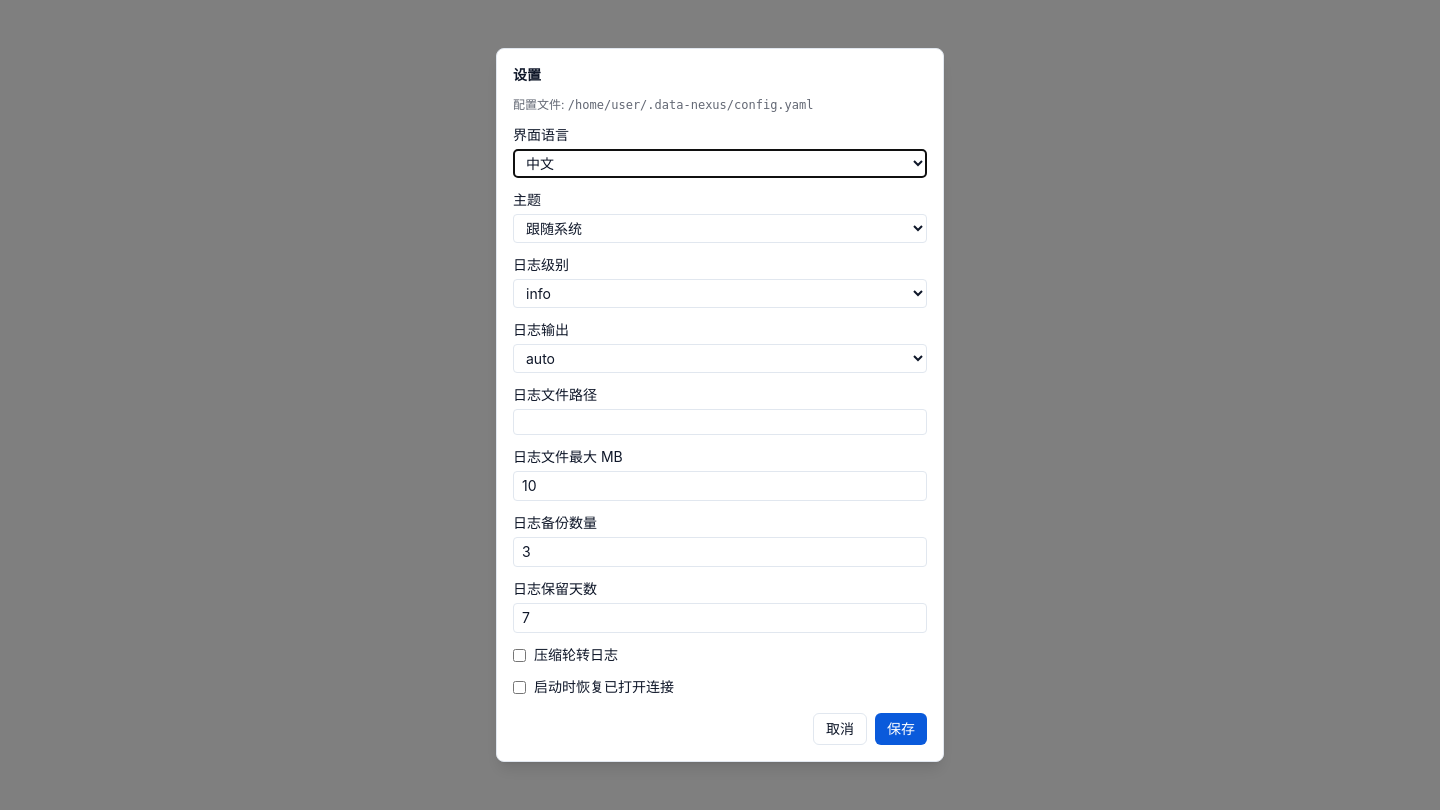
Test: SettingsDialog › shows inline validation for invalid max_size_mb
The width and height of the screenshot is (1440, 810).
Replace the text in the number field showing "10" with "0" at [720, 486], box [513,471,927,501]
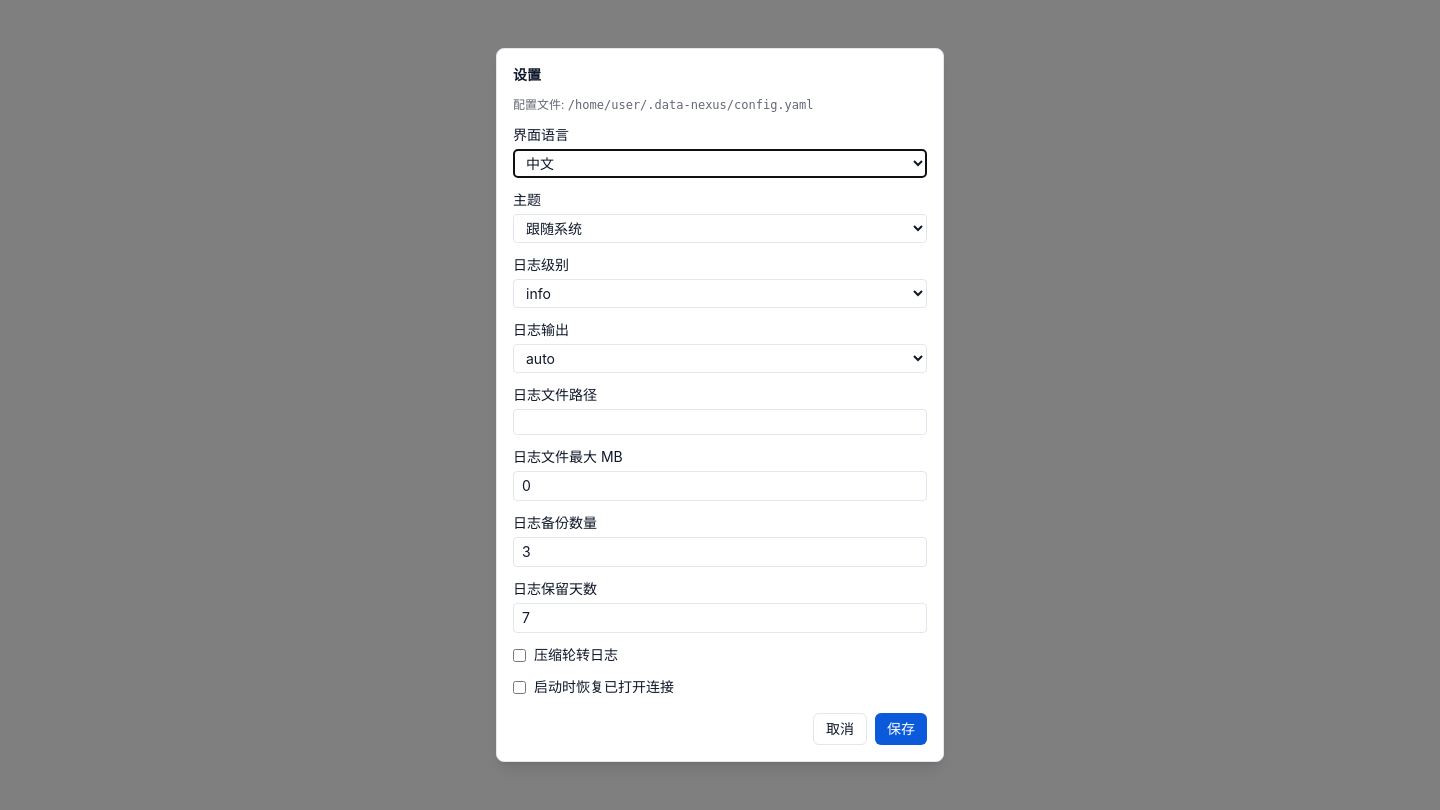
Click the button "保存".
click(901, 729)  # box [875,713,927,745]
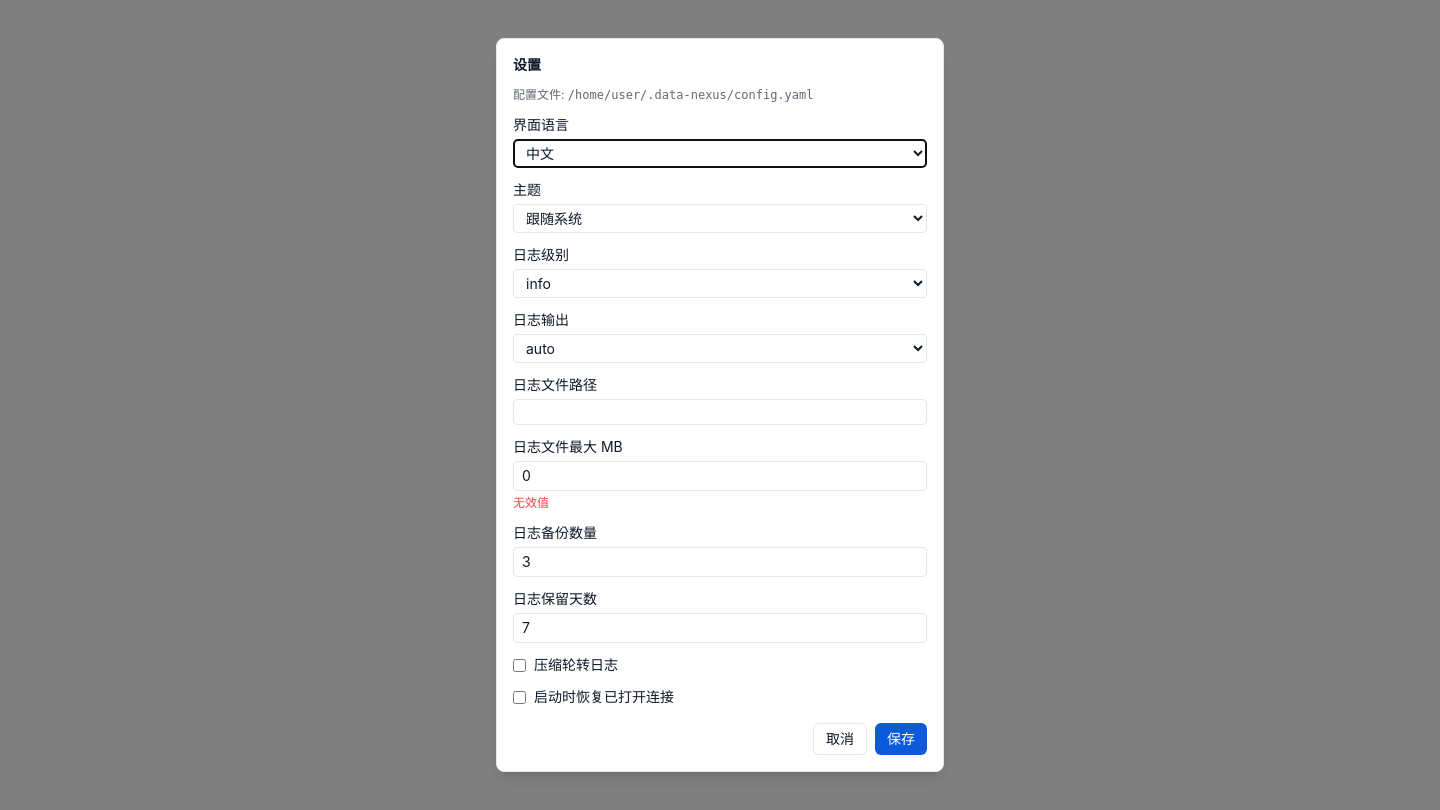
Result: the text "无效值" is shown at [513,495,549,510]
